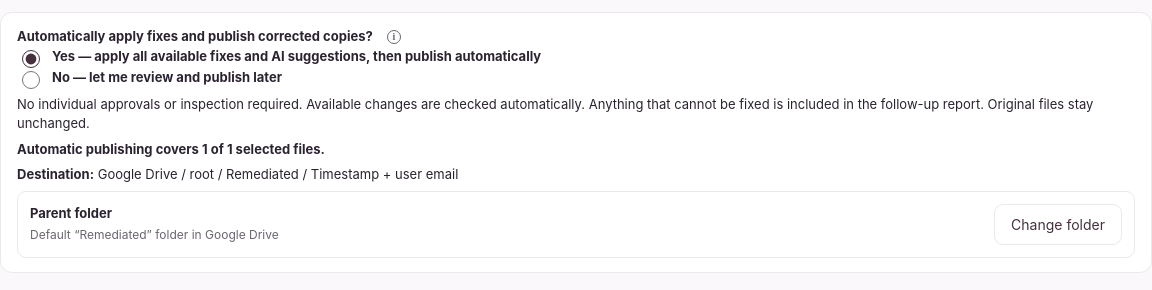
Test: defaults a ready draft to automatic publishing and allows review opt out
Expected: the 1st radio button is checked, [22, 50, 40, 68]
Click the radio button labelled "No — let me review and publish later" at (31, 80), box [22, 70, 40, 88]
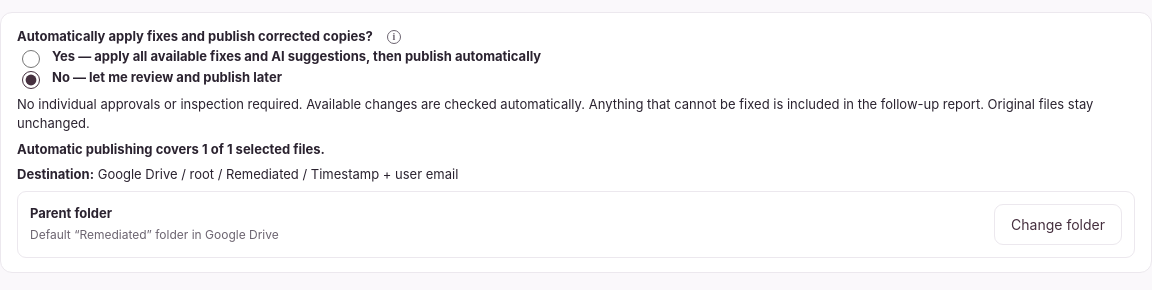
Result: the radio button labelled "No — let me review and publish later" is checked at [22, 70, 40, 88]
Result: the 1st radio button is not checked at [22, 50, 40, 68]
